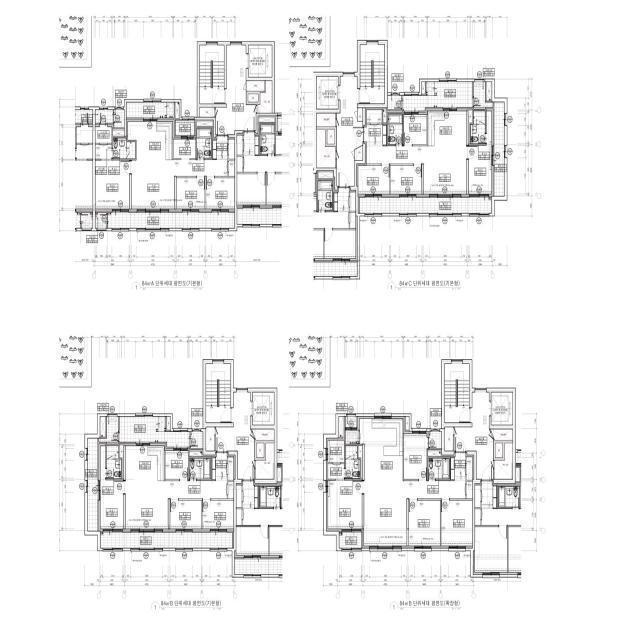space_balconi: (119, 417, 190, 447), (402, 82, 472, 111), (108, 212, 234, 228), (100, 533, 232, 548), (360, 198, 491, 213), (494, 102, 504, 196), (88, 439, 98, 531), (126, 102, 174, 118), (339, 532, 361, 548), (175, 120, 194, 136), (95, 110, 113, 123)
space_bedroom: (100, 446, 123, 529), (469, 111, 491, 194), (95, 160, 129, 209), (328, 481, 362, 529), (441, 500, 472, 546), (409, 501, 440, 546), (404, 434, 427, 479), (176, 178, 205, 209), (170, 501, 201, 529), (203, 501, 234, 529), (358, 166, 389, 194), (391, 166, 422, 194), (206, 178, 234, 209), (404, 115, 427, 145), (165, 451, 188, 480)
space_dressroom: (328, 441, 344, 479), (95, 125, 112, 159)
space_elevator: (249, 45, 272, 77), (491, 392, 513, 425), (316, 77, 338, 109), (253, 392, 274, 425)
space_elevator_hall: (216, 45, 256, 134), (215, 392, 255, 479), (454, 392, 493, 479), (337, 76, 363, 186)
space_front: (212, 453, 234, 480), (451, 453, 472, 480), (364, 125, 387, 146), (213, 136, 234, 159)
space_kitchen: (360, 419, 403, 481), (128, 122, 171, 160), (126, 446, 164, 481), (428, 111, 466, 146)
space_living_room: (364, 481, 473, 546), (125, 481, 234, 529), (131, 160, 234, 209), (367, 146, 467, 194)
space_other: (494, 443, 513, 479), (317, 130, 335, 168), (256, 443, 274, 479), (258, 81, 272, 113), (174, 139, 196, 158), (252, 429, 274, 440), (491, 429, 513, 440), (317, 114, 335, 127), (367, 110, 382, 123), (206, 427, 214, 451), (429, 432, 441, 448), (445, 427, 453, 451), (191, 432, 203, 448), (246, 81, 265, 91), (345, 430, 358, 444), (114, 110, 124, 128), (388, 96, 401, 109), (119, 446, 124, 479), (358, 445, 362, 479), (468, 111, 472, 144), (200, 108, 214, 117), (100, 417, 106, 437), (495, 443, 503, 458), (486, 82, 492, 101), (355, 146, 363, 160), (257, 443, 264, 458), (327, 129, 334, 144), (248, 94, 258, 102), (339, 417, 343, 437), (175, 102, 179, 119), (189, 451, 202, 456), (428, 451, 441, 456), (358, 108, 363, 121), (197, 122, 213, 126), (383, 109, 387, 123), (113, 131, 124, 136), (167, 417, 170, 430), (406, 417, 409, 430), (422, 82, 425, 94)
space_outdoor_room: (99, 417, 118, 442), (474, 82, 493, 107), (95, 213, 107, 228), (345, 417, 357, 427)
space_staircase: (206, 364, 231, 423), (360, 45, 385, 104), (445, 364, 469, 423), (200, 45, 224, 104)
space_toilet: (106, 446, 122, 479), (189, 458, 211, 479), (471, 111, 485, 144), (113, 138, 135, 159), (197, 128, 212, 158), (346, 446, 360, 478), (428, 458, 449, 479), (388, 114, 402, 144)
